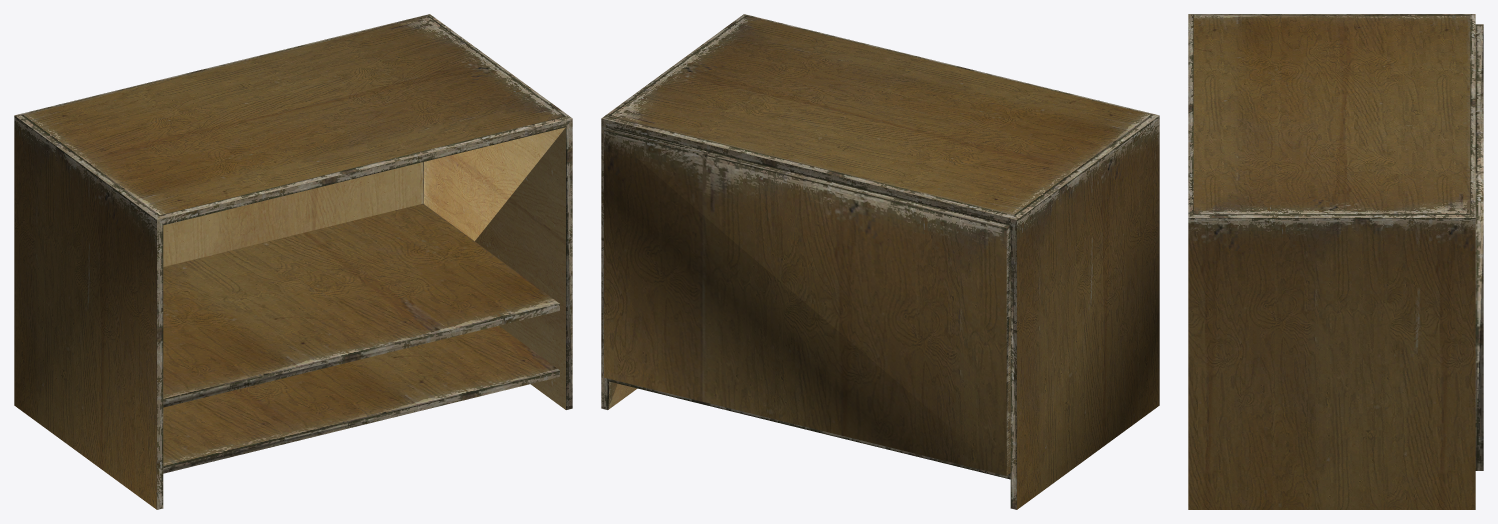
The model's file is tumba_village_1.fbx.
The picture shows the model from 3 angles, left to right: view 1: azimuth 30°, elevation 25°; view 2: azimuth 150°, elevation 25°; view 3: azimuth 270°, elevation 25°; orthographic projection.
Parts seen in each view (by area): view 1: tumba_village_180x120.object; view 2: tumba_village_180x120.object; view 3: tumba_village_180x120.object.
Boxes of the visible parts, x1,y1,x2,y2 form: tumba_village_180x120.object: (14, 14, 572, 509); tumba_village_180x120.object: (601, 14, 1159, 509); tumba_village_180x120.object: (1188, 14, 1483, 509).
Bounding box in the file's own units: 180 × 121 × 110.
